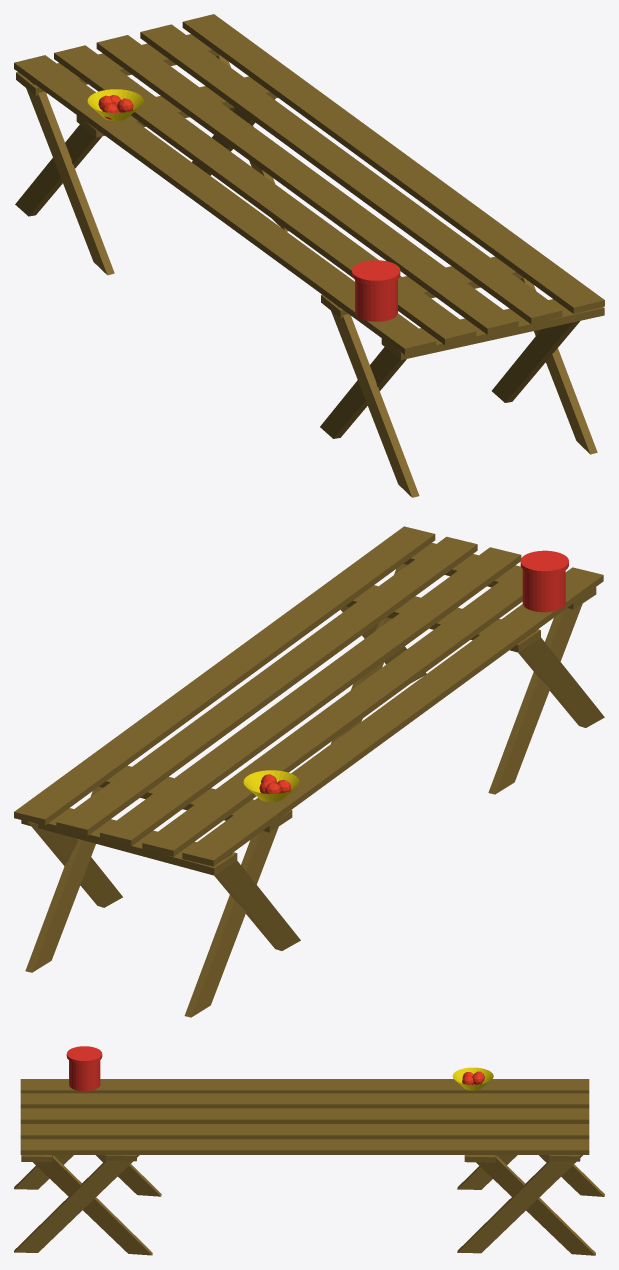
The model's file is antslife.fbx.
The picture shows the model from 3 angles, top to bottom: view 1: azimuth 30°, elevation 25°; view 2: azimuth 150°, elevation 25°; view 3: azimuth 270°, elevation 25°; orthographic projection. The views are drawn at different scales.
Parts seen in each view (by area): view 1: Cube.002, Cube.001, Cube.003, Cube.005, Cube.004, Cube.016, Cube.011, Circle, Cube.008, Cube.007, Cube.009, Cube.014 (+5 smaller); view 2: Cube.002, Cube.001, Cube.003, Cube.005, Cube.004, Cube.014, Cube.009, Cube.013, Cube.016, Cube.011, Circle, Cube.015 (+5 smaller); view 3: Cube.002, Cube.003, Cube.001, Cube.004, Cube.005, Cube.017, Cube.012, Cube.013, Cube.008, Circle, Cube.014, Cube.009 (+3 smaller).
Boxes of the visible parts, left/top/right/bottom form: Cube.002: left=182, top=14, right=604, bottom=313; Cube.001: left=140, top=24, right=562, bottom=324; Cube.003: left=96, top=35, right=518, bottom=334; Cube.005: left=14, top=55, right=436, bottom=354; Cube.004: left=54, top=45, right=476, bottom=345; Cube.016: left=26, top=80, right=114, bottom=275; Cube.011: left=331, top=306, right=419, bottom=497; Circle: left=352, top=260, right=400, bottom=321; Cube.008: left=492, top=321, right=579, bottom=402; Cube.007: left=381, top=299, right=604, bottom=359; Cube.009: left=320, top=347, right=406, bottom=438; Cube.014: left=15, top=124, right=101, bottom=216; Cube.002: left=14, top=526, right=435, bottom=825; Cube.001: left=56, top=536, right=477, bottom=835; Cube.003: left=100, top=547, right=521, bottom=846; Cube.005: left=182, top=567, right=603, bottom=866; Cube.004: left=142, top=566, right=522, bottom=856; Cube.014: left=184, top=827, right=278, bottom=1017; Cube.009: left=488, top=604, right=582, bottom=794; Cube.013: left=25, top=786, right=102, bottom=972; Cube.016: left=206, top=853, right=300, bottom=950; Cube.011: left=518, top=631, right=604, bottom=727; Circle: left=520, top=550, right=568, bottom=612; Cube.015: left=21, top=808, right=237, bottom=875; Cube.002: left=20, top=1139, right=589, bottom=1154; Cube.003: left=20, top=1108, right=589, bottom=1123; Cube.001: left=20, top=1124, right=589, bottom=1139; Cube.004: left=20, top=1093, right=589, bottom=1108; Cube.005: left=20, top=1079, right=589, bottom=1093; Cube.017: left=457, top=1155, right=582, bottom=1253; Cube.012: left=14, top=1155, right=139, bottom=1252; Cube.013: left=476, top=1155, right=595, bottom=1255; Cube.008: left=33, top=1155, right=152, bottom=1255; Circle: left=66, top=1046, right=102, bottom=1091; Cube.014: left=539, top=1155, right=604, bottom=1196; Cube.009: left=96, top=1155, right=161, bottom=1196.
Bounding box in the file's own units: 1113 × 999 × 3767.
